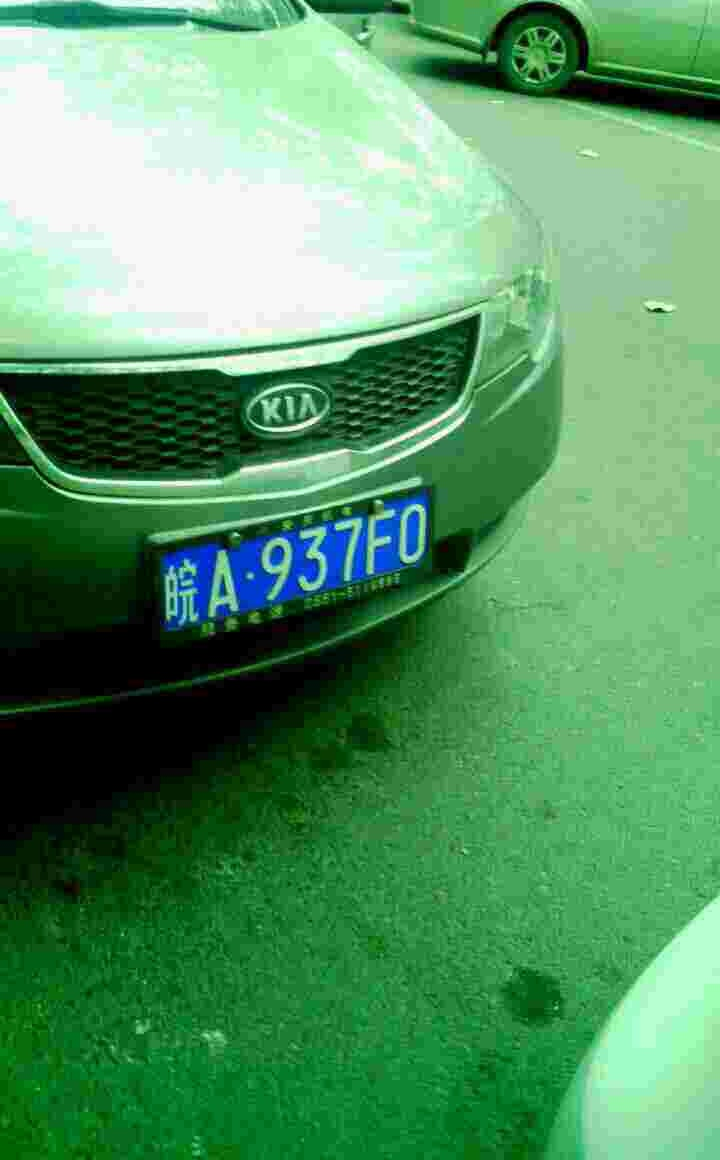license_plate: (149, 484, 433, 632)
